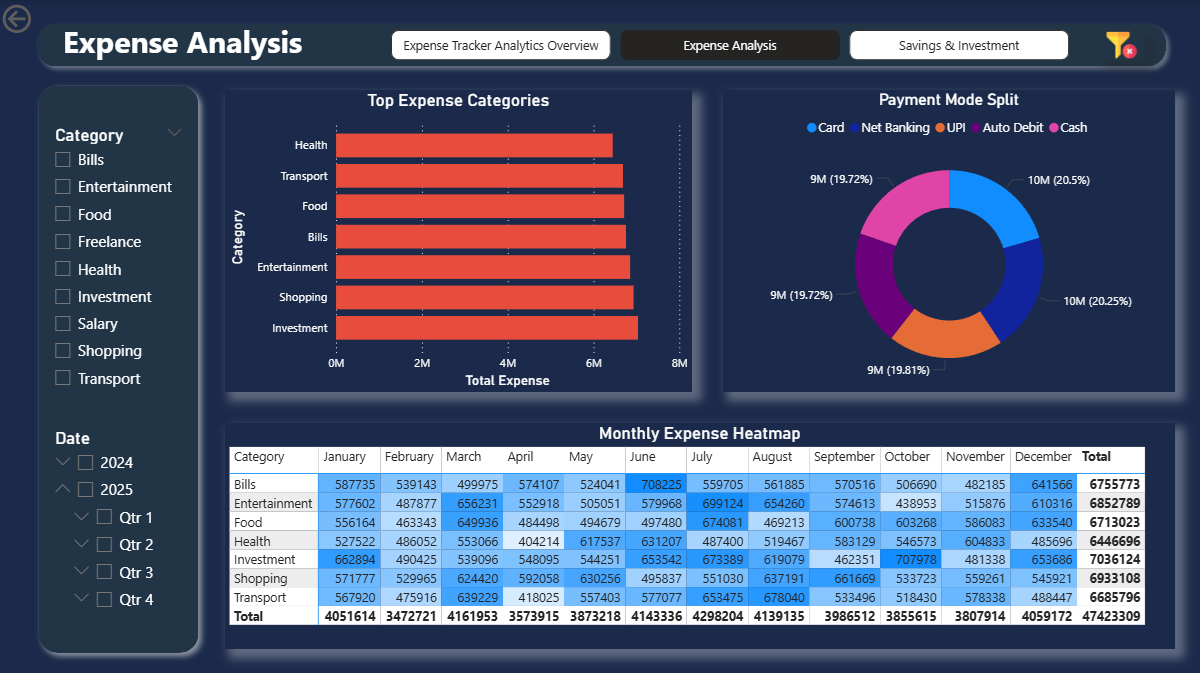

The dashboard page shown, as its layout file describes it:
{"tool":"powerbi","page":{"name":"Expense Analysis","canvas":[1280,720],"ordinal":1},"visuals":[{"type":"shape","box":[32,16,1216,64],"z":0},{"type":"textbox","box":[64,16,272,64],"z":1000},{"type":"shape","box":[32,80,192,624],"z":2000},{"type":"slicer","fields":{"Values":["Expense Tracker.Category"]},"box":[48,128,160,304],"z":3000},{"type":"slicer","fields":{"Values":["Expense Tracker.Date.Variation.Date Hierarchy.Year","Expense Tracker.Date.Variation.Date Hierarchy.Quarter","Expense Tracker.Date.Variation.Date Hierarchy.Month"]},"box":[48,448,160,224],"z":4000},{"type":"clusteredBarChart","title":"Top Expense Categories","fields":{"Category":["Expense Tracker.Category"],"Y":["Expense Tracker.Total Expense"]},"box":[240,96,496,320],"z":5000},{"type":"donutChart","title":"Payment Mode Split","fields":{"Category":["Expense Tracker.Payment_Mode"],"Y":["Expense Tracker.Total Expense"]},"box":[768,96,480,320],"z":6000},{"type":"pivotTable","title":"Monthly Expense Heatmap","fields":{"Rows":["Expense Tracker.Category"],"Columns":["Expense Tracker.Date.Variation.Date Hierarchy.Month"],"Values":["Expense Tracker.Total Expense"]},"box":[240,448,1008,240],"z":7000},{"type":"actionButton","box":[0,0,100,40],"z":8000},{"type":"image","box":[1168,32,48,32],"z":9000},{"type":"pageNavigator","box":[416,32,720,32],"z":10000}]}

Visuals, with their boxes in screenshot pixels (x1, y1, x2, y2), scaled from the page's 1280x720 canvas onto the 1200x673 screenshot:
shape: x1=30 y1=15 x2=1170 y2=75
textbox: x1=60 y1=15 x2=315 y2=75
shape: x1=30 y1=75 x2=210 y2=658
slicer - Expense Tracker.Category: x1=45 y1=120 x2=195 y2=404
slicer - Expense Tracker.Date.Variation.Date Hierarchy.Year x Expense Tracker.Date.Variation.Date Hierarchy.Quarter: x1=45 y1=419 x2=195 y2=628
"Top Expense Categories" clusteredBarChart: x1=225 y1=90 x2=690 y2=389
"Payment Mode Split" donutChart: x1=720 y1=90 x2=1170 y2=389
"Monthly Expense Heatmap" pivotTable: x1=225 y1=419 x2=1170 y2=643
actionButton: x1=0 y1=0 x2=94 y2=37
image: x1=1095 y1=30 x2=1140 y2=60
pageNavigator: x1=390 y1=30 x2=1065 y2=60
